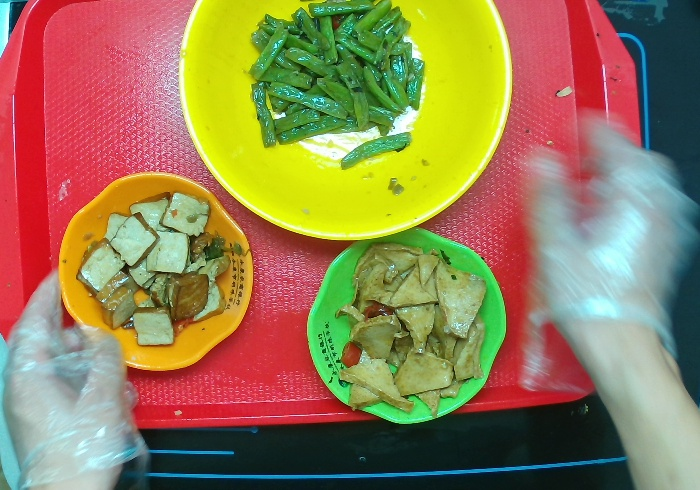YKMZ-Huang_Se_Tang_Wan: (176, 1, 514, 241)
YKMZ-Ju_Se_Ao_Bian_Wan: (59, 170, 256, 373)
YKMZ-Lv_Se_Ao_Bian_Wan: (306, 226, 507, 427)
